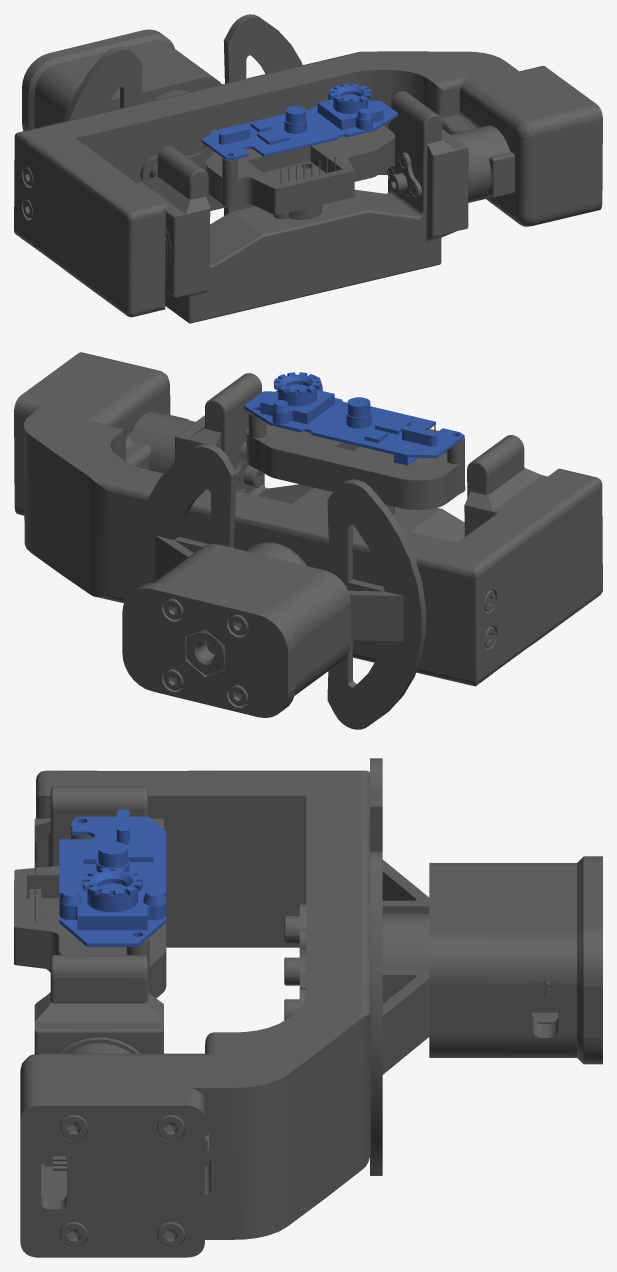
File: three-axis-gimbal.glb
The picture shows the model from 3 angles, top to bottom: view 1: azimuth 30°, elevation 25°; view 2: azimuth 150°, elevation 25°; view 3: azimuth 270°, elevation 25°; orthographic projection. The views are drawn at different scales.
Parts seen in each view (by area): view 1: Part 10, Part 6, Part 18, Part 14, Part 32, C270-電路, Part 3, Part 4, MIUZEI_MS18_9G, id11, Part 5, Part 20; view 2: Part 10, Part 14, Part 18, Part 3, Part 6, Part 32, C270-電路, Part 4, Hex nut 1/4-20_1, MIUZEI_MS18_9G; view 3: Part 10, Part 14, Part 18, Part 4, Part 6, C270-電路, Part 3, Part 32, Part 5, MIUZEI_MS18_9G.
Boxes of the visible parts, left/top/right/bottom form: Part 10: left=21, top=51, right=591, bottom=226; Part 6: left=137, top=91, right=468, bottom=323; Part 18: left=14, top=132, right=165, bottom=317; Part 14: left=37, top=14, right=302, bottom=215; Part 32: left=205, top=125, right=395, bottom=215; C270-電路: left=201, top=83, right=398, bottom=159; Part 3: left=22, top=29, right=174, bottom=130; Part 4: left=532, top=65, right=602, bottom=212; MIUZEI_MS18_9G: left=240, top=204, right=329, bottom=230; id11: left=263, top=161, right=325, bottom=184; Part 5: left=140, top=129, right=216, bottom=181; Part 20: left=387, top=152, right=422, bottom=198; Part 10: left=23, top=355, right=476, bottom=686; Part 14: left=137, top=443, right=425, bottom=729; Part 18: left=457, top=468, right=602, bottom=685; Part 3: left=122, top=583, right=296, bottom=717; Part 6: left=175, top=373, right=547, bottom=542; Part 32: left=246, top=410, right=465, bottom=509; C270-電路: left=243, top=372, right=464, bottom=465; Part 4: left=14, top=352, right=93, bottom=515; Hex nut 1/4-20_1: left=186, top=629, right=224, bottom=675; MIUZEI_MS18_9G: left=386, top=505, right=430, bottom=529; Part 10: left=20, top=770, right=370, bottom=1239; Part 14: left=370, top=758, right=570, bottom=1175; Part 18: left=36, top=770, right=364, bottom=947; Part 4: left=20, top=1097, right=204, bottom=1257; Part 6: left=34, top=786, right=163, bottom=1054; C270-電路: left=59, top=809, right=166, bottom=946; Part 3: left=570, top=856, right=602, bottom=1064; Part 32: left=14, top=822, right=166, bottom=998; Part 5: left=299, top=904, right=306, bottom=1008; MIUZEI_MS18_9G: left=532, top=982, right=558, bottom=1012.
Size of the model in its own units: 155 by 68.96 by 116.
